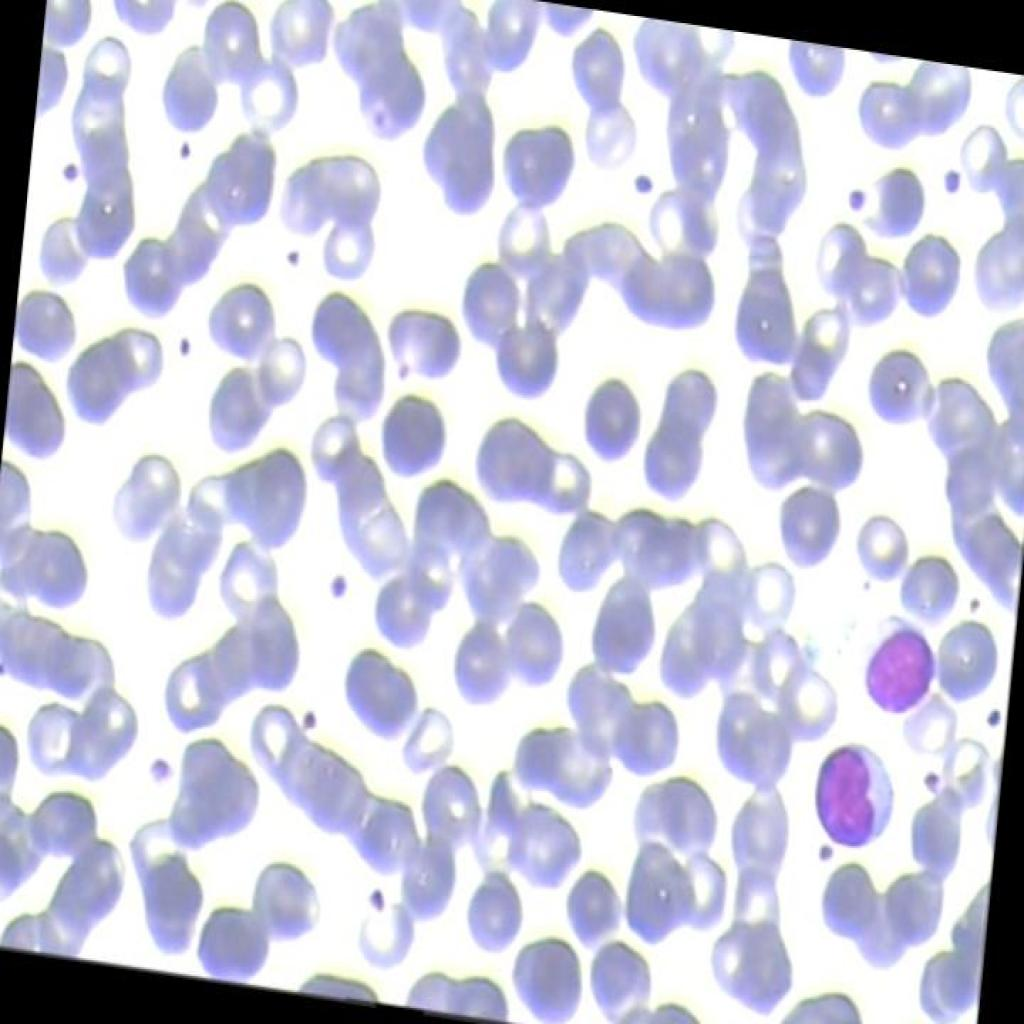Limfosit: (804, 725, 904, 855), (855, 602, 940, 724)
Platelet: (310, 551, 358, 613), (624, 156, 664, 217), (924, 146, 966, 204), (967, 692, 1008, 750), (50, 150, 98, 198), (908, 756, 952, 806), (140, 732, 174, 790), (286, 693, 323, 745), (361, 876, 394, 928), (839, 170, 866, 226), (953, 576, 983, 624), (279, 240, 310, 276), (811, 832, 835, 878), (171, 128, 199, 167), (171, 326, 196, 358)
